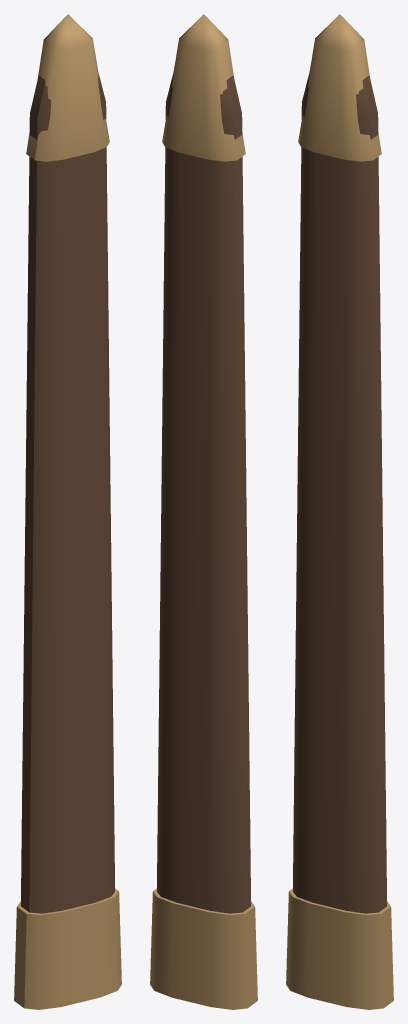
Rendered from combat-scabbard.glb.
3 renders of one model, left to right at view 1: azimuth 30°, elevation 25°; view 2: azimuth 150°, elevation 25°; view 3: azimuth 330°, elevation 25°, orthographic.
Visible parts, largest first — view 1: combat-scabbard; view 2: combat-scabbard; view 3: combat-scabbard.
Part boxes in pixels (<box>): combat-scabbard: <box>14,14,121,1009</box>; combat-scabbard: <box>150,14,257,1009</box>; combat-scabbard: <box>286,14,393,1009</box>.
Bounding box in the file's own units: 0.1523 × 1.46 × 0.0703.
